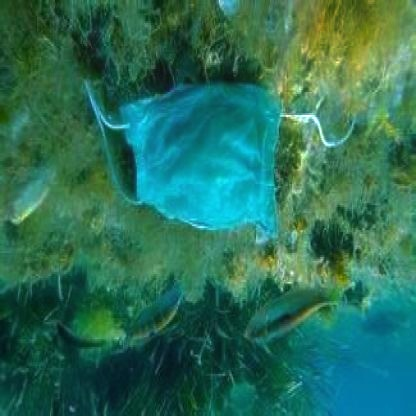Mask: (77, 67, 358, 244)
